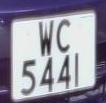1: (72, 52, 83, 93)
4: (56, 52, 74, 94), (39, 56, 57, 96)
5: (18, 55, 40, 100)
C: (55, 16, 74, 59)
W: (36, 17, 56, 61)
